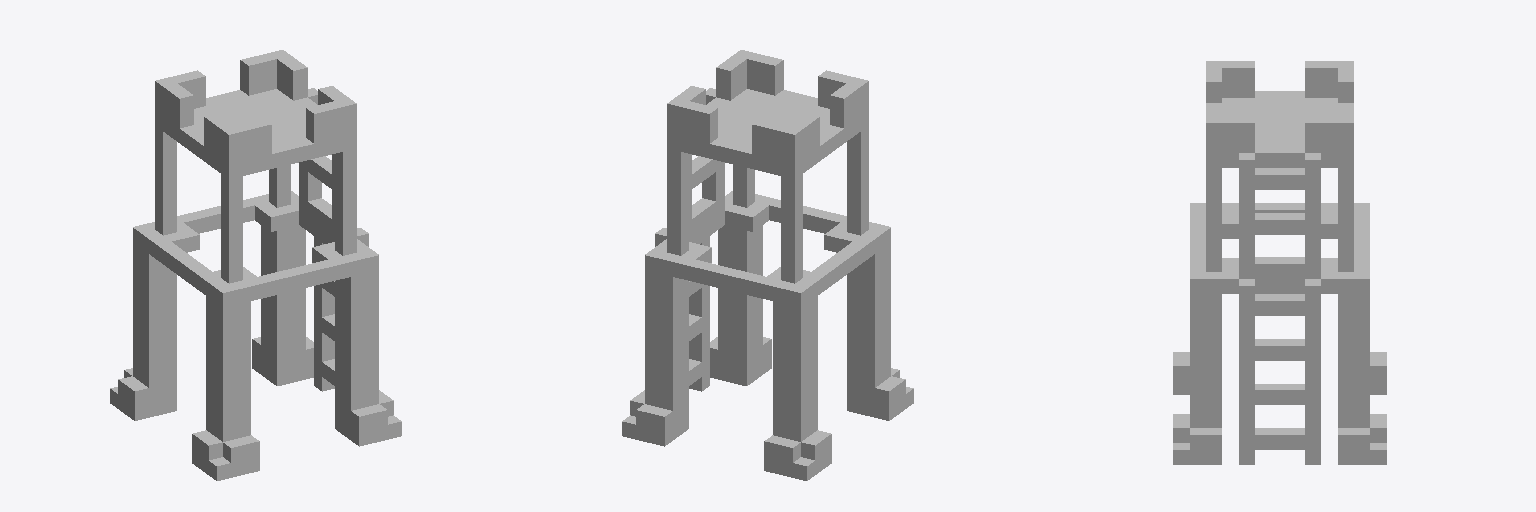
The model's file is bashnya1 (3).obj.
3 views of the same model, side by side, from view 1: azimuth 30°, elevation 25°; view 2: azimuth 150°, elevation 25°; view 3: azimuth 270°, elevation 25° (orthographic).
Parts seen in each view (by area): view 1: object 1; view 2: object 1; view 3: object 1.
Boxes of the visible parts, box(x1,y1,x2,y2) form: object 1: box(110, 50, 401, 480); object 1: box(622, 50, 913, 480); object 1: box(1173, 61, 1386, 464).
Bounding box in the file's own units: 1.3 × 2.2 × 1.3.